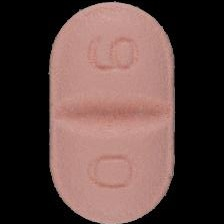65862-006: (0, 0, 224, 224)
